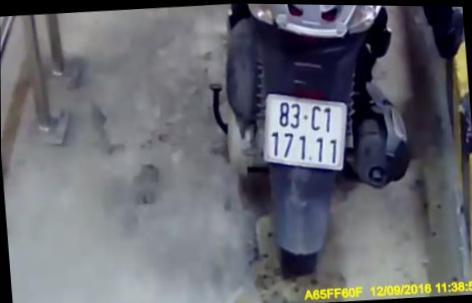LP: (264, 86, 352, 176)
